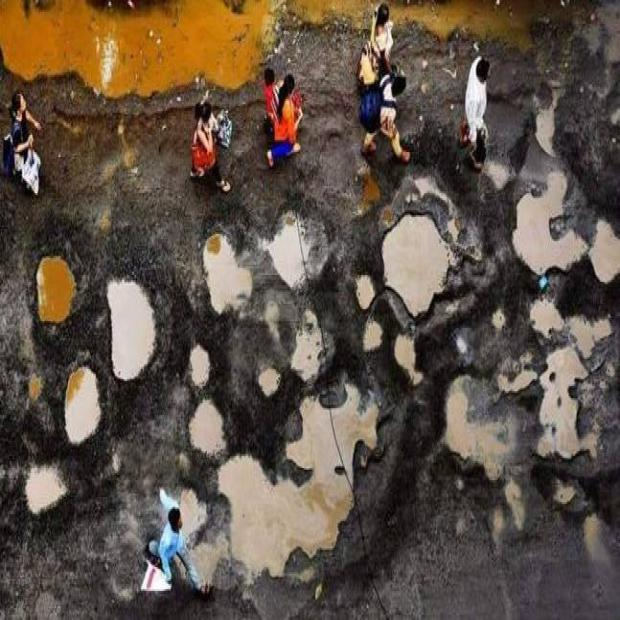lubang: (218, 384, 378, 576), (534, 326, 619, 475), (513, 171, 619, 282), (445, 374, 517, 480), (381, 213, 455, 316), (262, 212, 328, 289), (107, 280, 155, 379), (175, 488, 218, 596), (203, 234, 252, 311), (64, 367, 101, 444), (37, 256, 76, 323), (290, 309, 323, 381), (189, 400, 225, 456), (25, 465, 67, 512), (530, 292, 564, 338), (394, 333, 423, 386), (190, 343, 210, 388), (355, 273, 376, 311), (258, 367, 282, 396), (362, 319, 383, 352), (28, 374, 43, 401)
